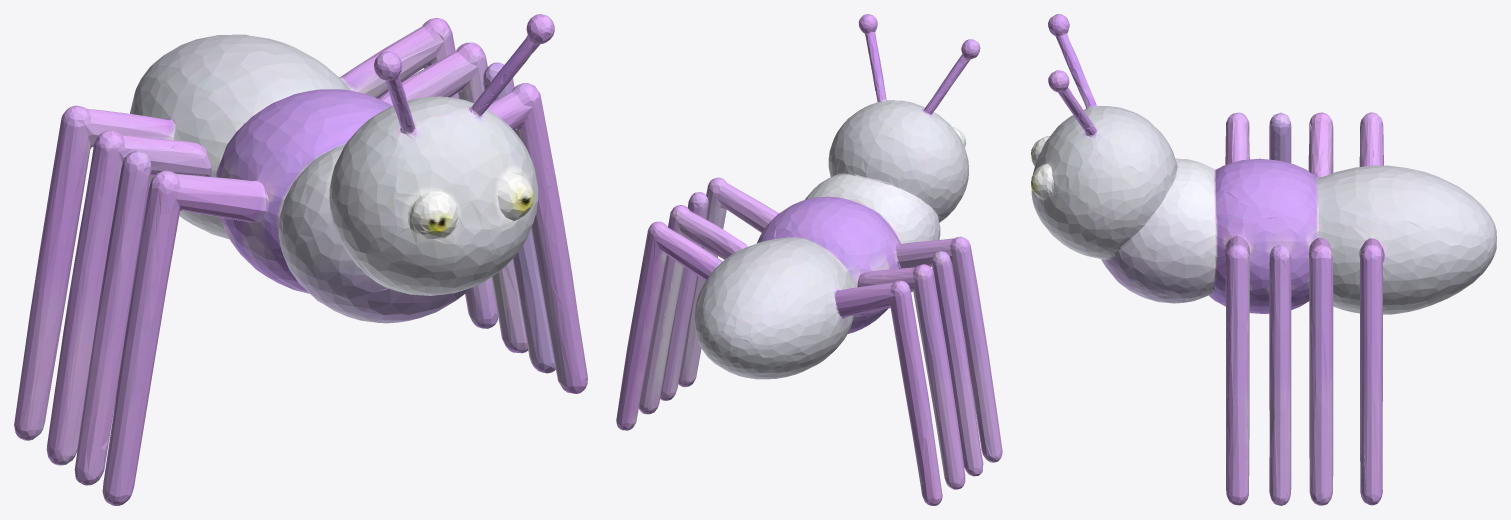
The model's file is creature-091.lod.glb.
3 views of the same model, side by side, from view 1: azimuth 30°, elevation 25°; view 2: azimuth 150°, elevation 25°; view 3: azimuth 270°, elevation 25° (orthographic). The views are drawn at different scales.
Parts seen in each view (by area): view 1: tmpc48nktgf.ply; view 2: tmpc48nktgf.ply; view 3: tmpc48nktgf.ply.
Boxes of the visible parts, x1,y1,x2,y2 form: tmpc48nktgf.ply: (14, 14, 587, 505); tmpc48nktgf.ply: (616, 14, 1002, 505); tmpc48nktgf.ply: (1031, 14, 1496, 505).
Size of the model in its own units: 1.79 by 1.78 by 1.99.
Materials: 1 (1 with a texture image).
